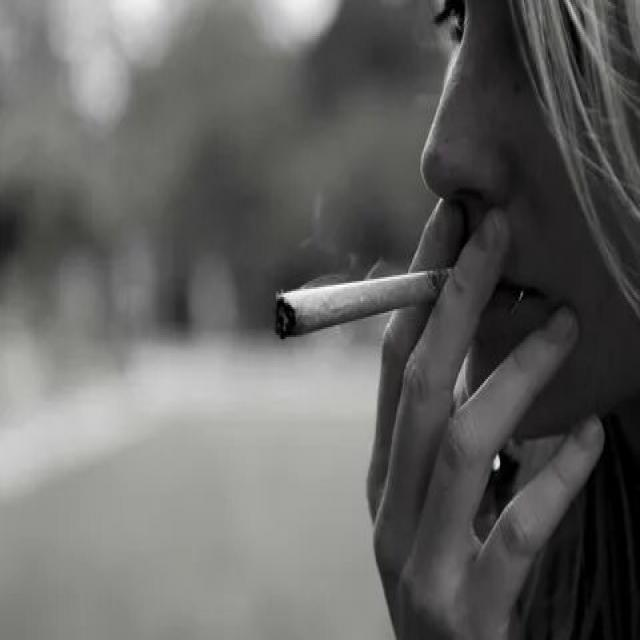cigarette: (272, 259, 461, 343)
